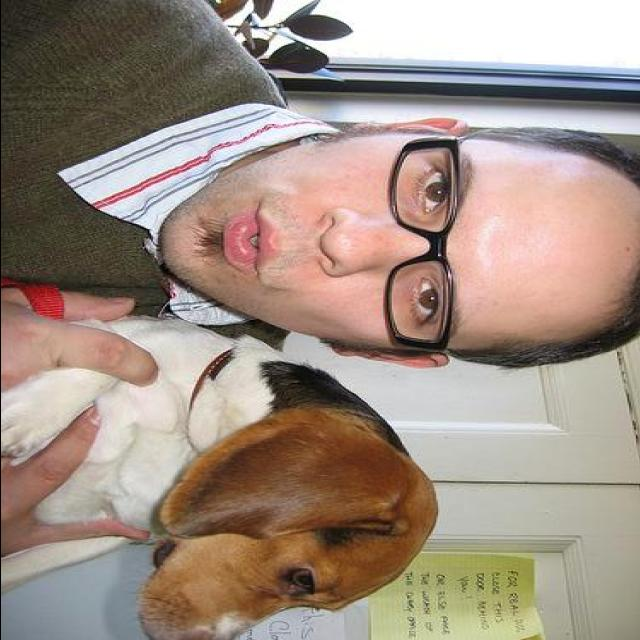beagle: (2, 314, 437, 638)
